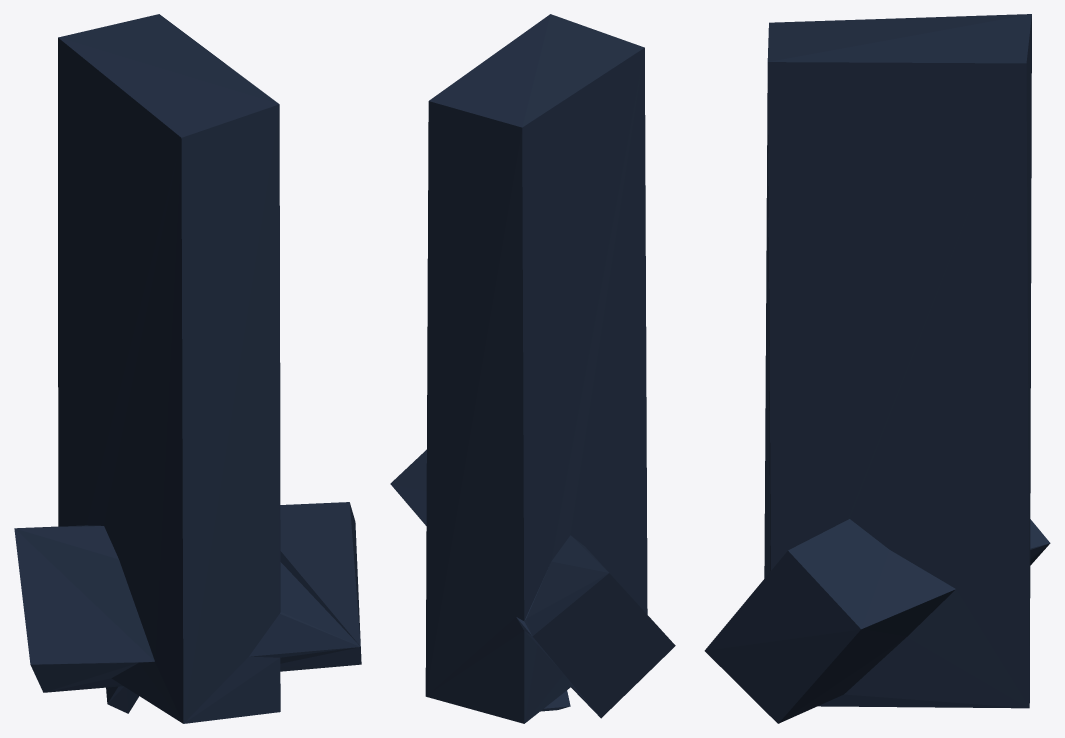
3 renders of one model, left to right at view 1: azimuth 30°, elevation 25°; view 2: azimuth 150°, elevation 25°; view 3: azimuth 270°, elevation 25°, orthographic. The views are drawn at different scales.
Parts seen in each view (by area): view 1: 645_Cube.2595; view 2: 645_Cube.2595; view 3: 645_Cube.2595.
Part boxes in pixels (x1=…): 645_Cube.2595: x1=14, y1=14, x2=361, y2=723; 645_Cube.2595: x1=390, y1=14, x2=675, y2=723; 645_Cube.2595: x1=704, y1=14, x2=1050, y2=723.
Size of the model in its own units: 6.43 by 12.78 by 5.91.
